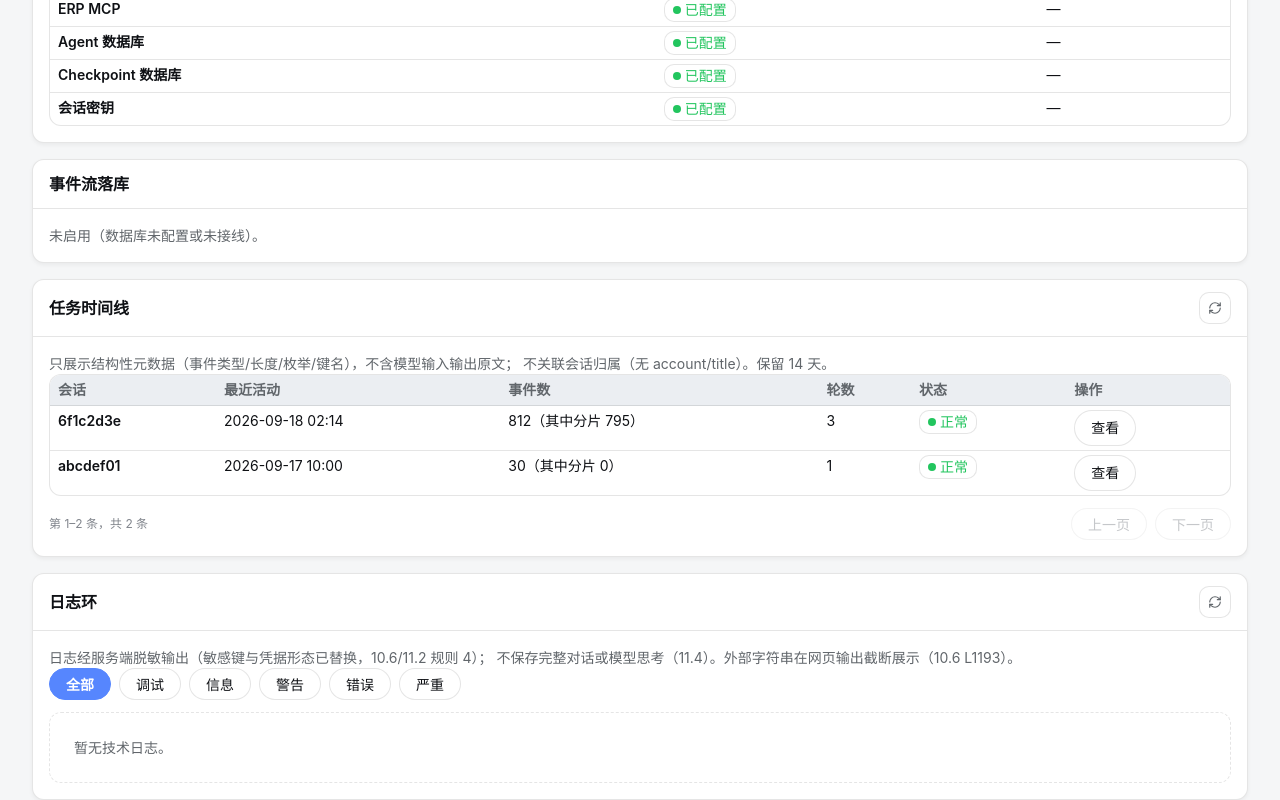
StreamTimelinePanel 任务时间线 › 28 游程内部缺段显示「缺 2 段」并带 error 类
The image size is (1280, 800).
(page scrolled)
Click the button "查看" in the row of "6f1c2d3e" at (1105, 428), box [1074,410,1136,446]
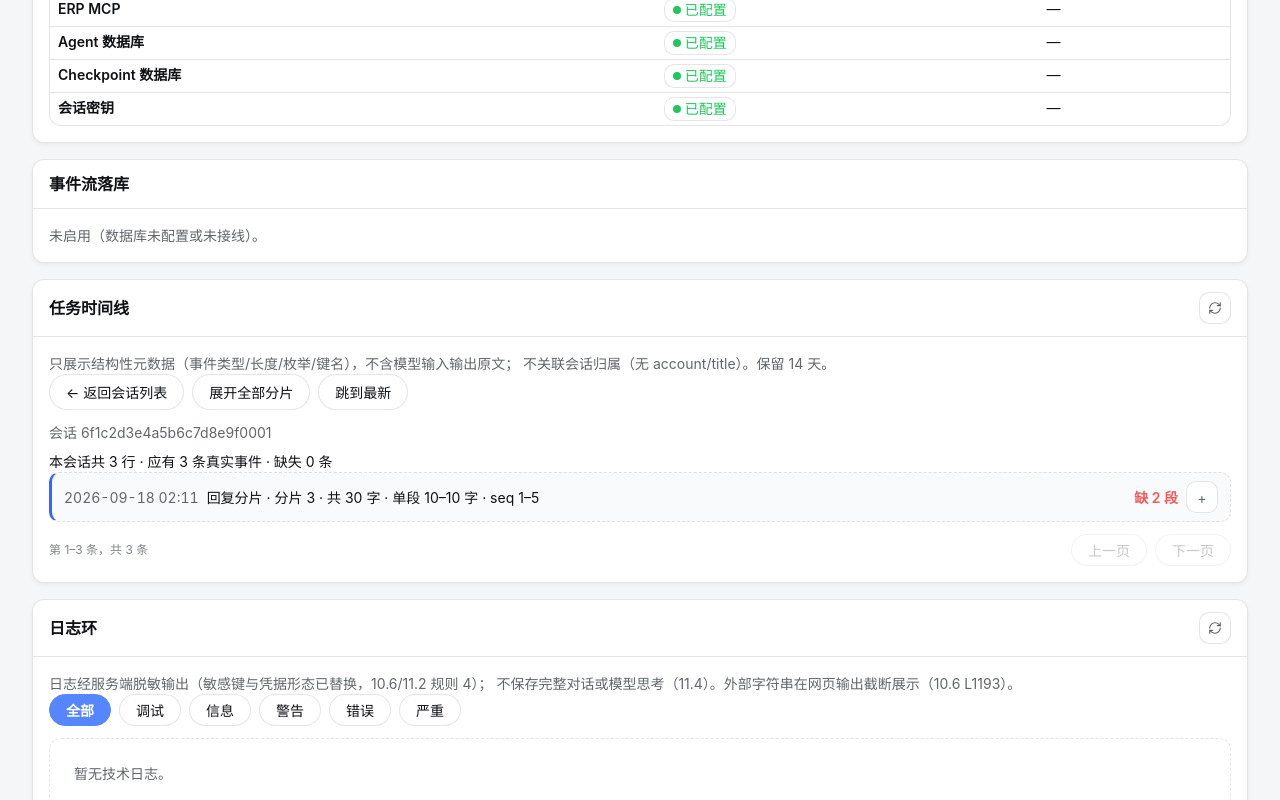
Check: the button "← 返回会话列表" is shown, box [49,374,184,410]
